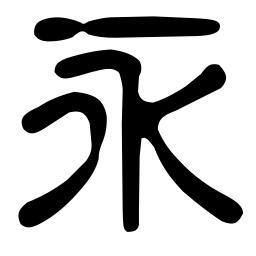D: (33, 14, 222, 43)
HSZ: (110, 47, 145, 85)
Hs: (53, 48, 97, 80)
Ne: (197, 189, 245, 226)
PNc: (142, 96, 169, 141)
PZe: (17, 192, 65, 229)
Ps: (194, 61, 227, 99)
SG: (120, 207, 143, 234)
Sm: (119, 152, 143, 187)
TPZ: (70, 90, 108, 142)
Ts: (20, 103, 61, 136)
